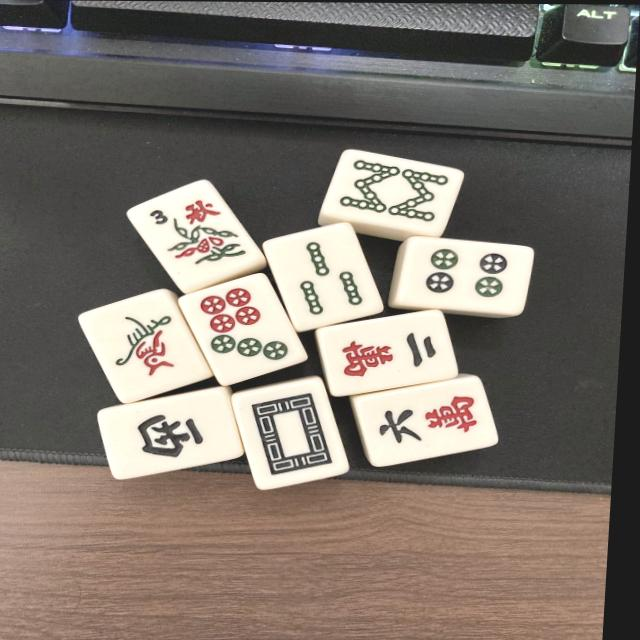1B: (79, 294, 214, 402)
2C: (316, 315, 463, 399)
3B: (261, 229, 389, 335)
3S: (132, 178, 269, 291)
4D: (399, 240, 536, 316)
6C: (351, 378, 500, 466)
7D: (173, 273, 310, 385)
8B: (333, 154, 459, 226)
WD: (229, 378, 353, 493)
WW: (112, 393, 242, 476)
